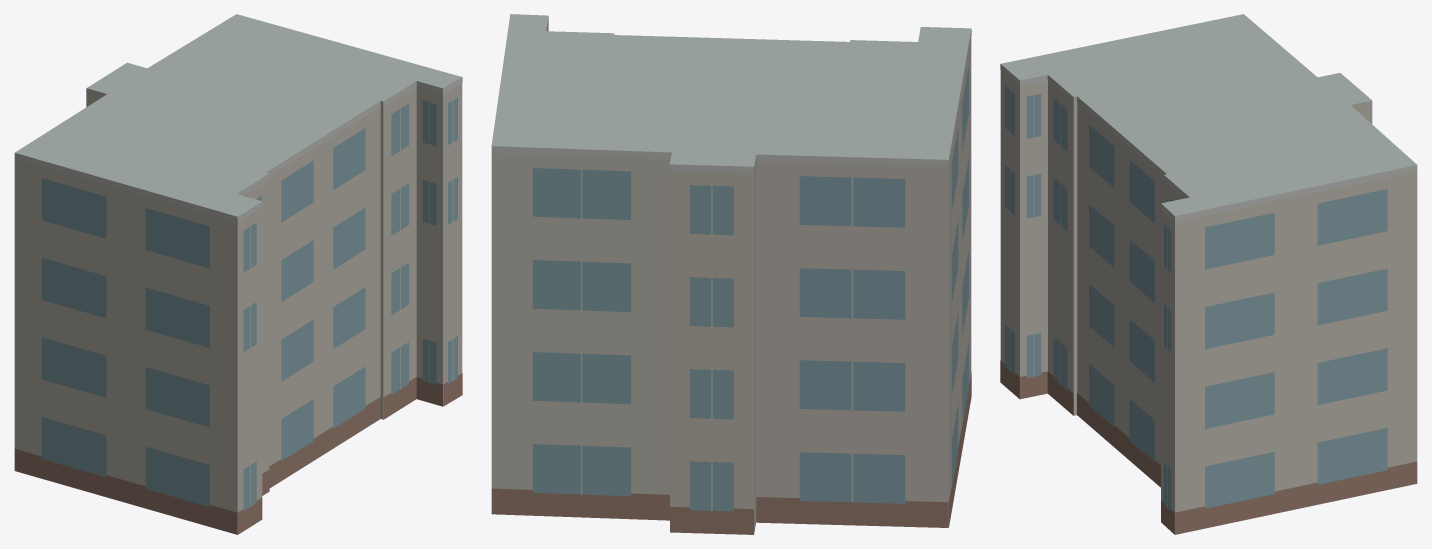
File: survey-upis-32736483.glb
3 renders of one model, left to right at view 1: azimuth 30°, elevation 25°; view 2: azimuth 150°, elevation 25°; view 3: azimuth 270°, elevation 25°, orthographic. The views are drawn at different scales.
Visible parts, largest first — view 1: survey-upis-32736483.tmp; view 2: survey-upis-32736483.tmp; view 3: survey-upis-32736483.tmp.
Part boxes in pixels (left/top/right/bottom): survey-upis-32736483.tmp: left=14, top=14, right=462, bottom=534; survey-upis-32736483.tmp: left=491, top=14, right=971, bottom=534; survey-upis-32736483.tmp: left=1000, top=14, right=1417, bottom=534.
Bounding box in the file's own units: 17.69 × 13 × 15.41.
